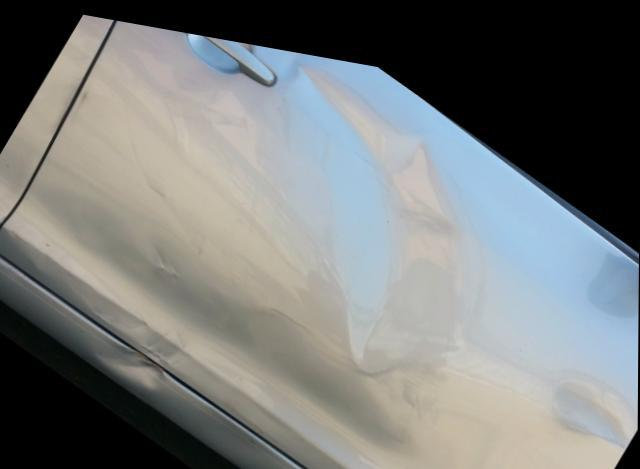dent: (289, 56, 457, 359), (546, 349, 638, 426), (100, 304, 185, 356), (96, 341, 165, 384)
